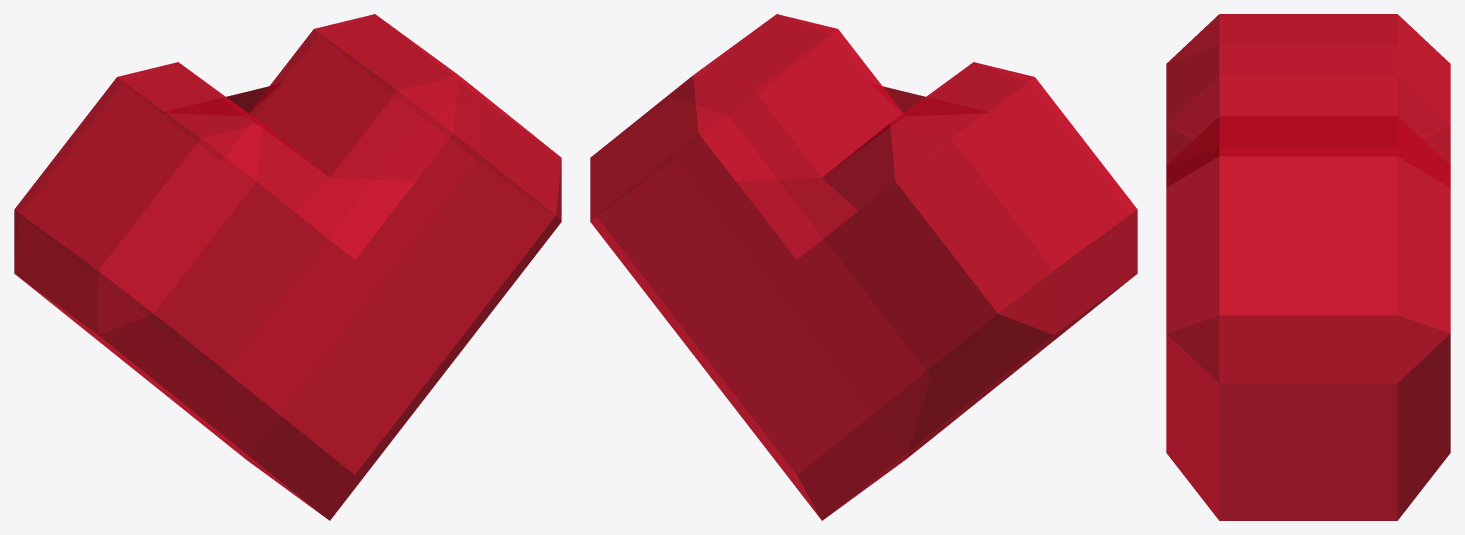
Rendered from heart.glb.
3 renders of one model, left to right at view 1: azimuth 30°, elevation 25°; view 2: azimuth 150°, elevation 25°; view 3: azimuth 270°, elevation 25°, orthographic. The views are drawn at different scales.
Visible parts, largest first — view 1: Cube.001; view 2: Cube.001; view 3: Cube.001.
Boxes of the visible parts, x1,y1,x2,y2 form: Cube.001: (14,14,561,520); Cube.001: (590,14,1137,520); Cube.001: (1166,14,1450,520).
Bounding box in the file's own units: 4 × 3.41 × 2.
